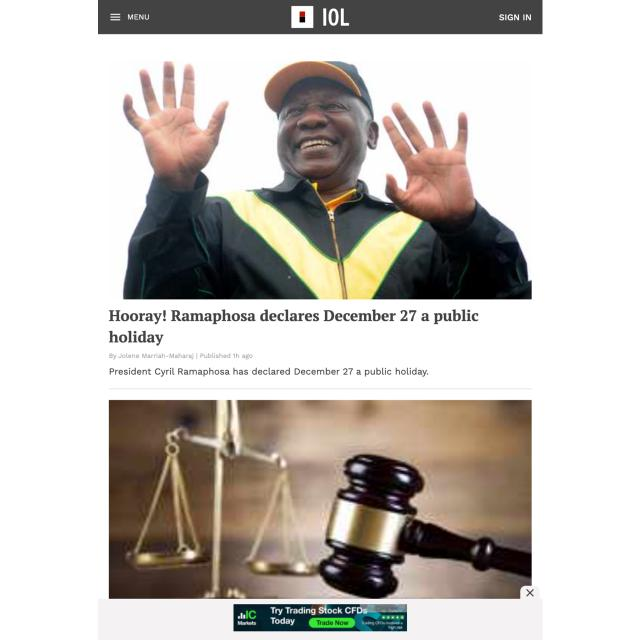CheckBox: (498, 11, 533, 24)
ImageView: (97, 585, 546, 640)
Input field: (106, 367, 432, 378)
bag: (98, 0, 542, 35)
breadcrumbs: (106, 306, 483, 349)
copy: (105, 38, 532, 300), (110, 399, 530, 585)
date picker: (287, 3, 350, 30)
decoration: (109, 11, 151, 23)
